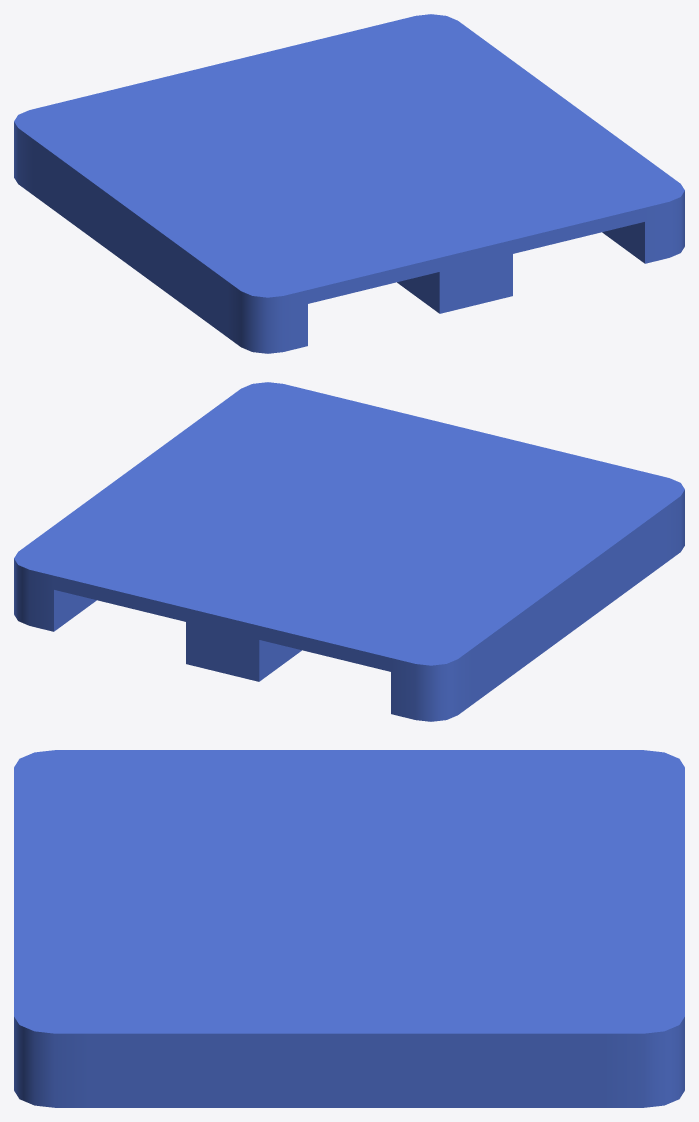
Rendered from palette.fbx.
3 views of the same model, one above another, from view 1: azimuth 30°, elevation 25°; view 2: azimuth 150°, elevation 25°; view 3: azimuth 270°, elevation 25° (orthographic). The views are drawn at different scales.
Parts seen in each view (by area): view 1: Cube; view 2: Cube; view 3: Cube.
Boxes of the visible parts, x1,y1,x2,y2 form: Cube: (14,14,684,353); Cube: (14,382,684,721); Cube: (14,750,684,1107).
Bounding box in the file's own units: 600 × 73.21 × 600.
